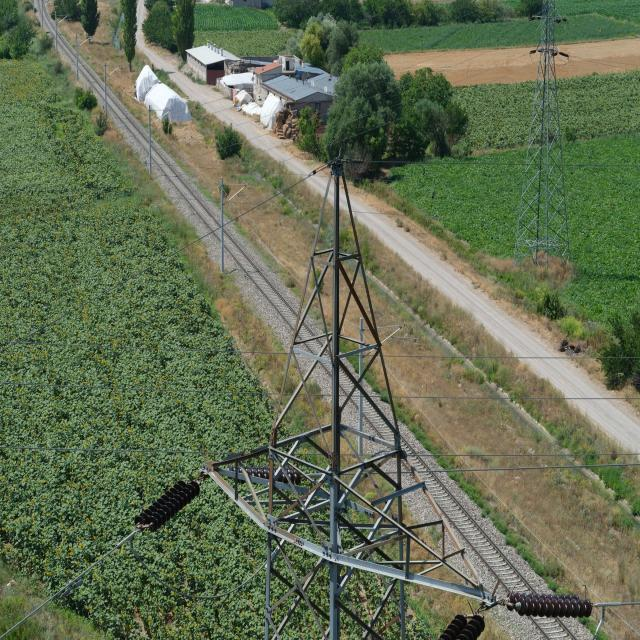direk: (262, 162, 409, 640), (514, 1, 572, 271)
tree: (330, 62, 400, 176), (394, 69, 466, 160), (148, 2, 194, 59), (300, 17, 346, 69)
